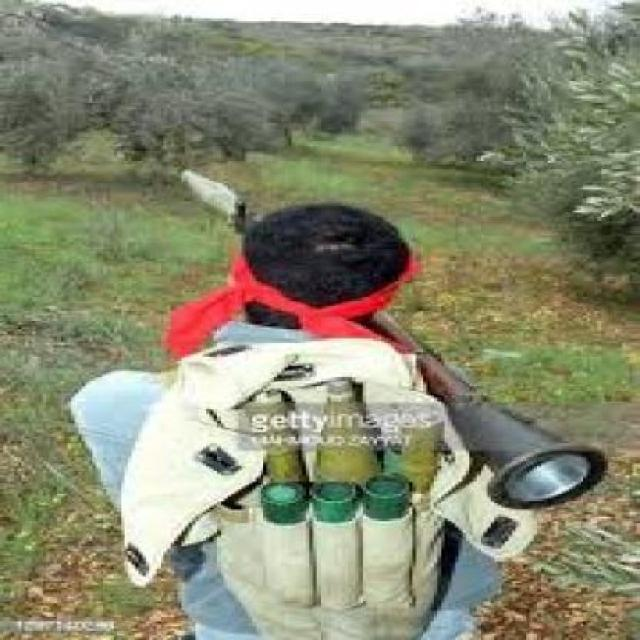weapon: (162, 150, 629, 562)
